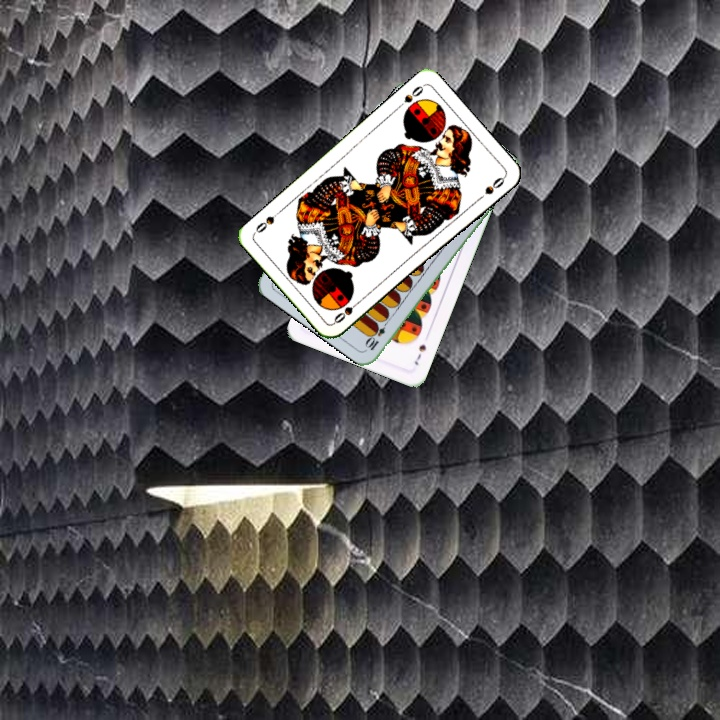E10: (362, 315, 391, 353)
S7: (410, 340, 429, 368)
SO: (393, 81, 427, 112), (330, 296, 364, 326)
